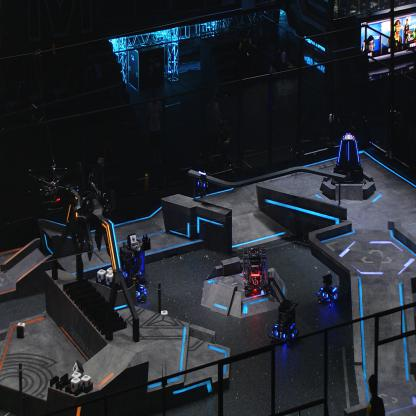car: (268, 296, 300, 347), (119, 240, 147, 288), (242, 243, 267, 294), (316, 271, 339, 309), (126, 274, 146, 304)
